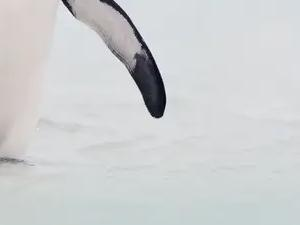Emperor Penguin: (0, 0, 199, 172)
